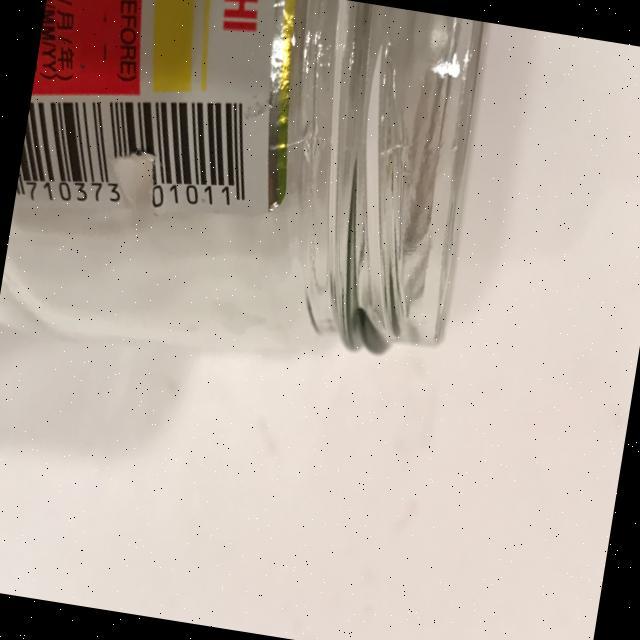glass: (0, 0, 503, 411)
